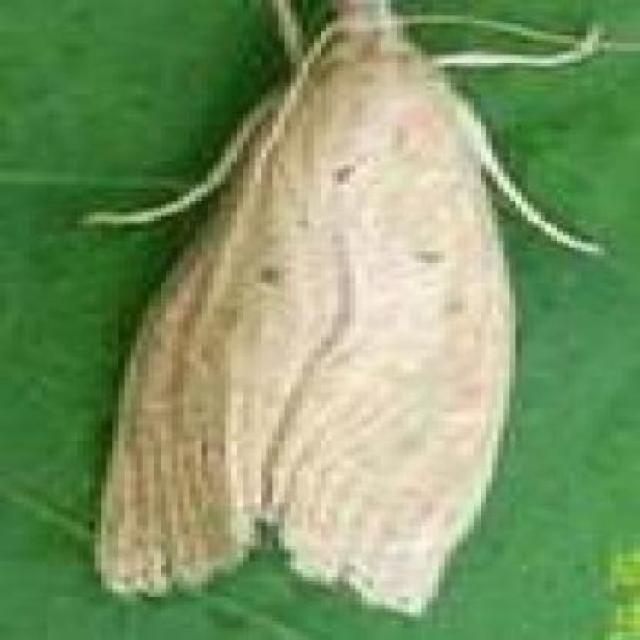stem-borer: (64, 0, 640, 609)
